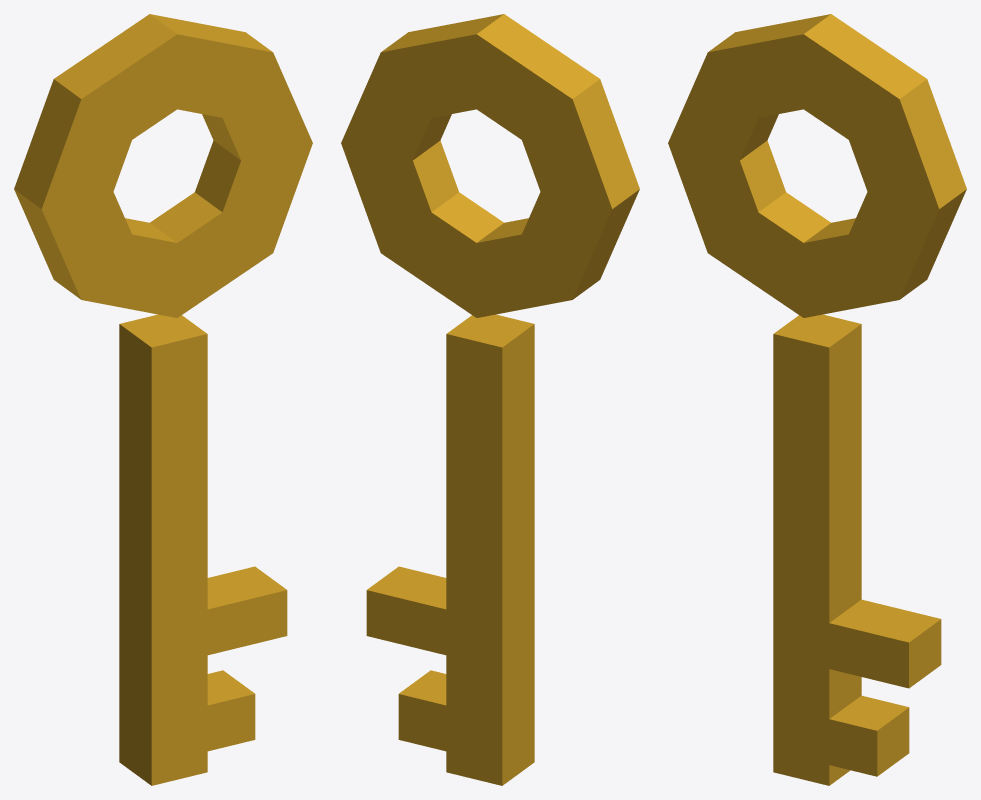
The model's file is Key_Pickup.obj.
3 renders of one model, left to right at view 1: azimuth 30°, elevation 25°; view 2: azimuth 150°, elevation 25°; view 3: azimuth 330°, elevation 25°, orthographic.
Size of the model in its own units: 0.68 by 1.78 by 0.14.
